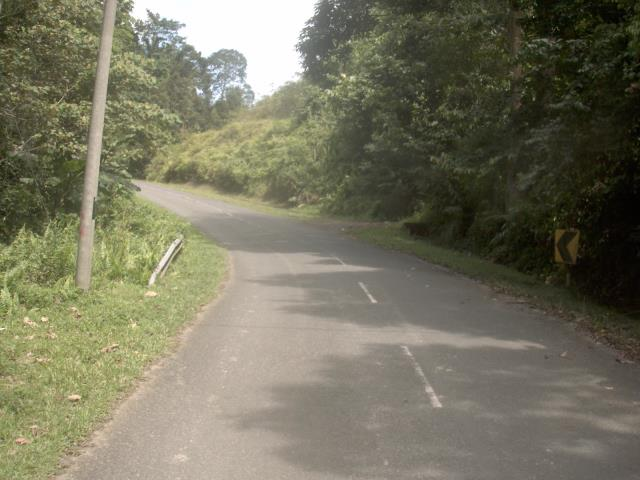traffic_sign: (545, 218, 587, 274)
